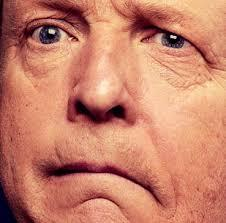strokeEyeMid: (20, 2, 221, 71)
strokeMouthMid: (39, 146, 172, 208)
